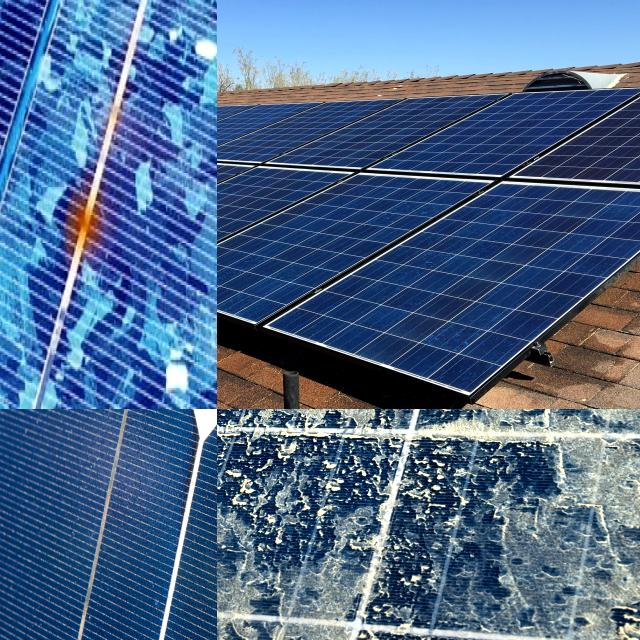crack: (0, 409, 217, 640)
dust: (384, 434, 607, 616), (217, 424, 350, 640), (217, 409, 424, 475), (453, 409, 640, 476), (301, 409, 464, 473), (303, 409, 488, 460), (511, 409, 640, 473), (520, 409, 640, 455), (217, 409, 271, 504)
shadow: (52, 141, 109, 294)
